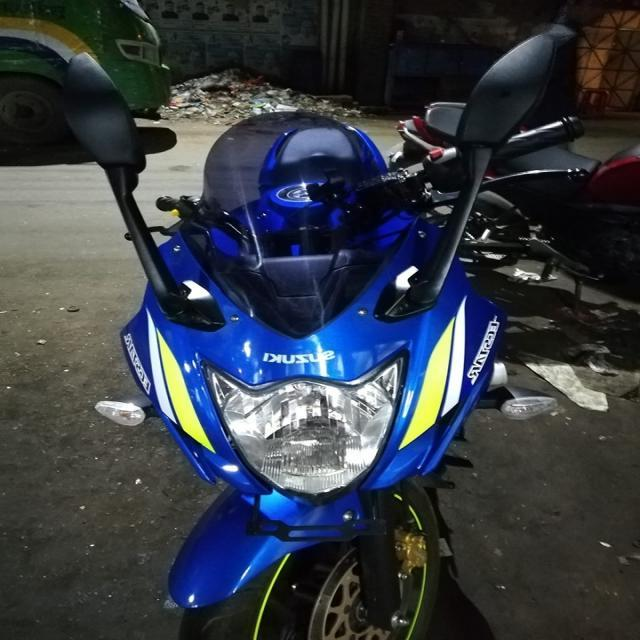Bus: (1, 1, 195, 221)
Motorbike: (49, 1, 615, 640), (361, 65, 640, 374)
